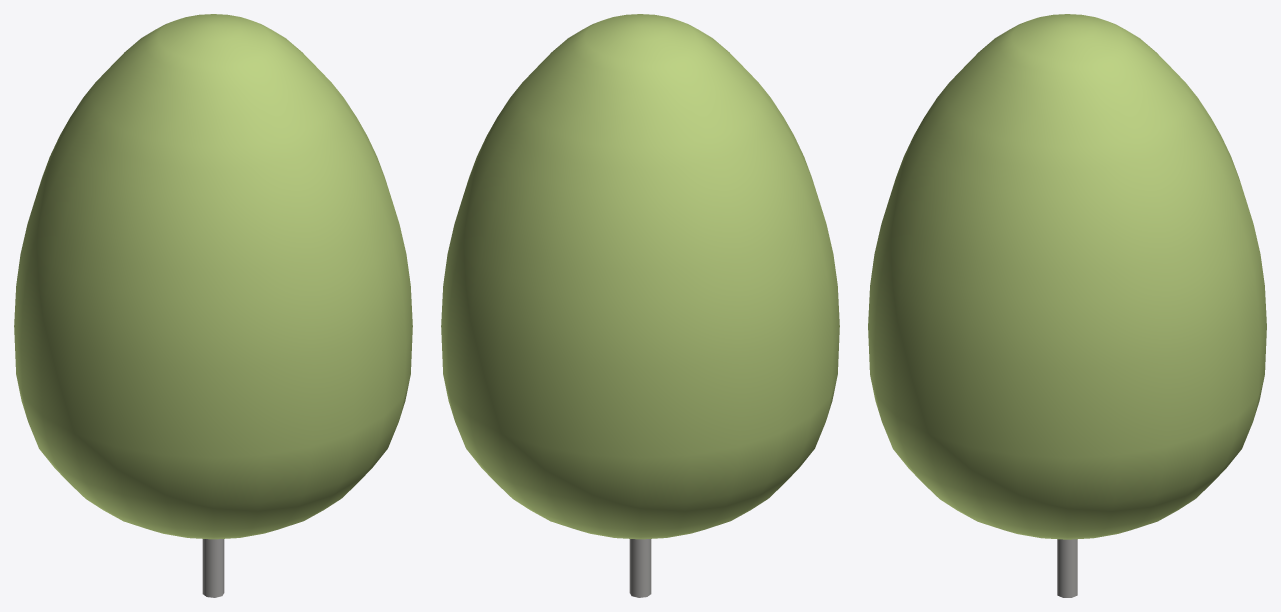
The model's file is AesculusHippocastanum.glb.
3 renders of one model, left to right at view 1: azimuth 30°, elevation 25°; view 2: azimuth 150°, elevation 25°; view 3: azimuth 270°, elevation 25°, orthographic.
Parts seen in each view (by area): view 1: Conker_Tree__Schematic_LOD3; view 2: Conker_Tree__Schematic_LOD3; view 3: Conker_Tree__Schematic_LOD3.
Boxes of the visible parts, box(x1,y1,x2,y2) form: Conker_Tree__Schematic_LOD3: box(14, 14, 412, 597); Conker_Tree__Schematic_LOD3: box(441, 14, 839, 597); Conker_Tree__Schematic_LOD3: box(868, 14, 1266, 597).
Bounding box in the file's own units: 12.98 × 20.38 × 12.98.
